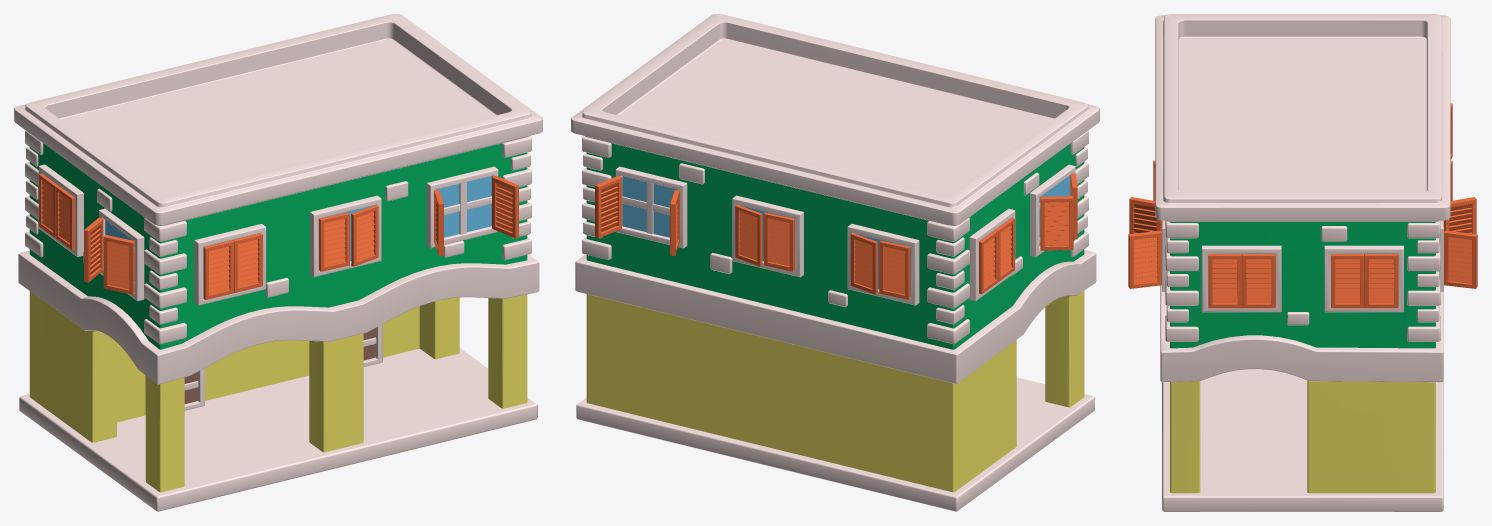
Rendered from City_1_House_1.glb.
3 renders of one model, left to right at view 1: azimuth 30°, elevation 25°; view 2: azimuth 150°, elevation 25°; view 3: azimuth 270°, elevation 25°, orthographic.
Parts seen in each view (by area): view 1: City_1_House_1; view 2: City_1_House_1; view 3: City_1_House_1.
Part boxes in pixels (x1=…): City_1_House_1: x1=14, y1=14, x2=542, y2=511; City_1_House_1: x1=571, y1=14, x2=1099, y2=511; City_1_House_1: x1=1128, y1=14, x2=1477, y2=511.
Bounding box in the file's own units: 11.22 × 8.03 × 8.14.
1 material, 1 textured.
